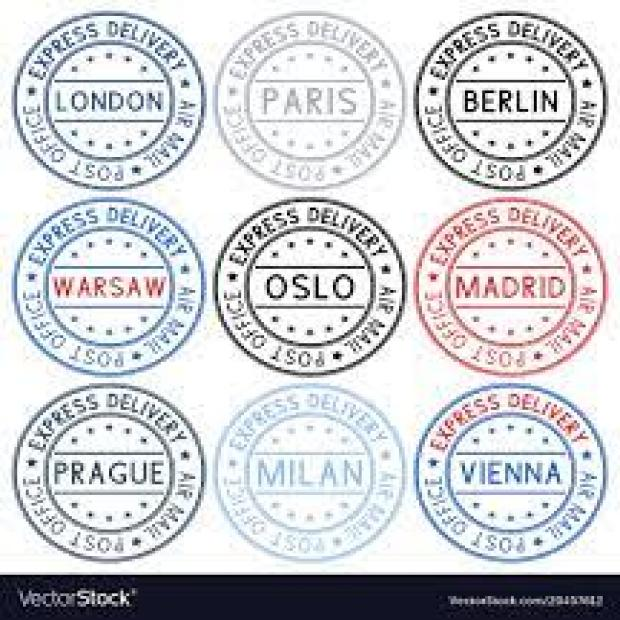Ink-stamps: (413, 11, 618, 191), (412, 381, 608, 567), (211, 196, 410, 379), (9, 382, 208, 563), (215, 9, 409, 193), (12, 196, 209, 376), (10, 13, 211, 189), (418, 196, 610, 377), (215, 387, 407, 553)
